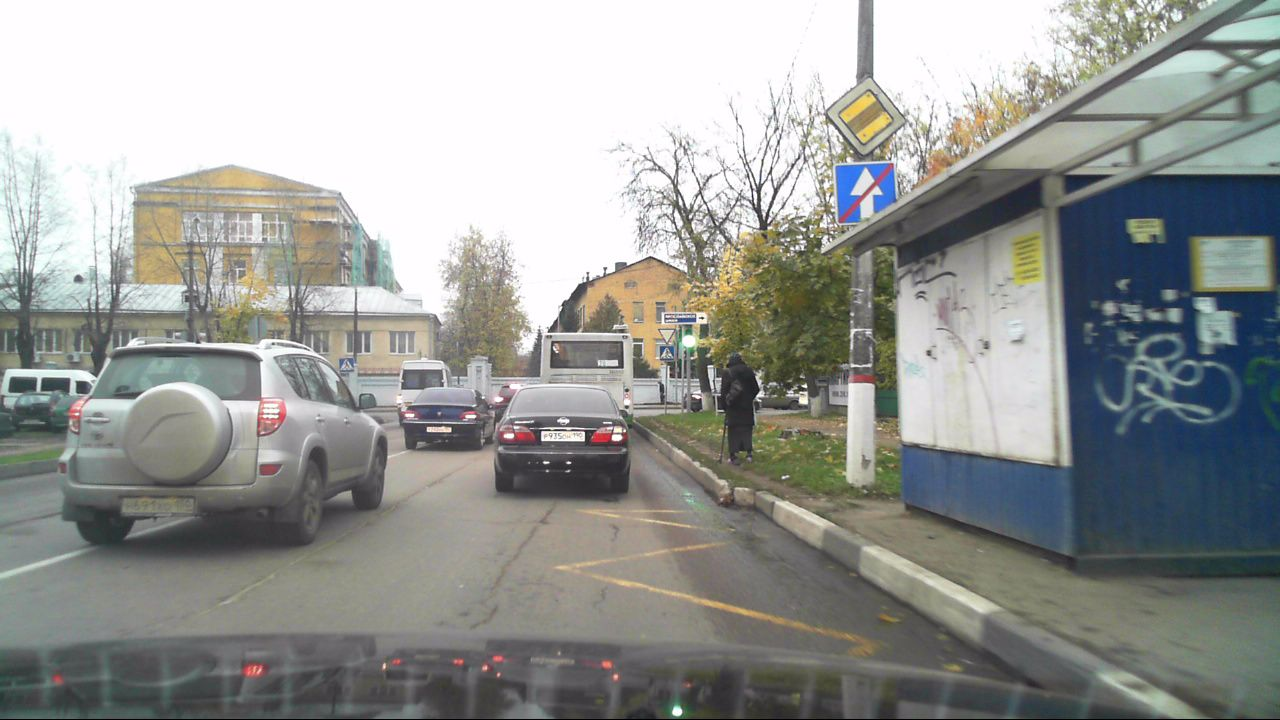main road: (828, 78, 904, 157)
